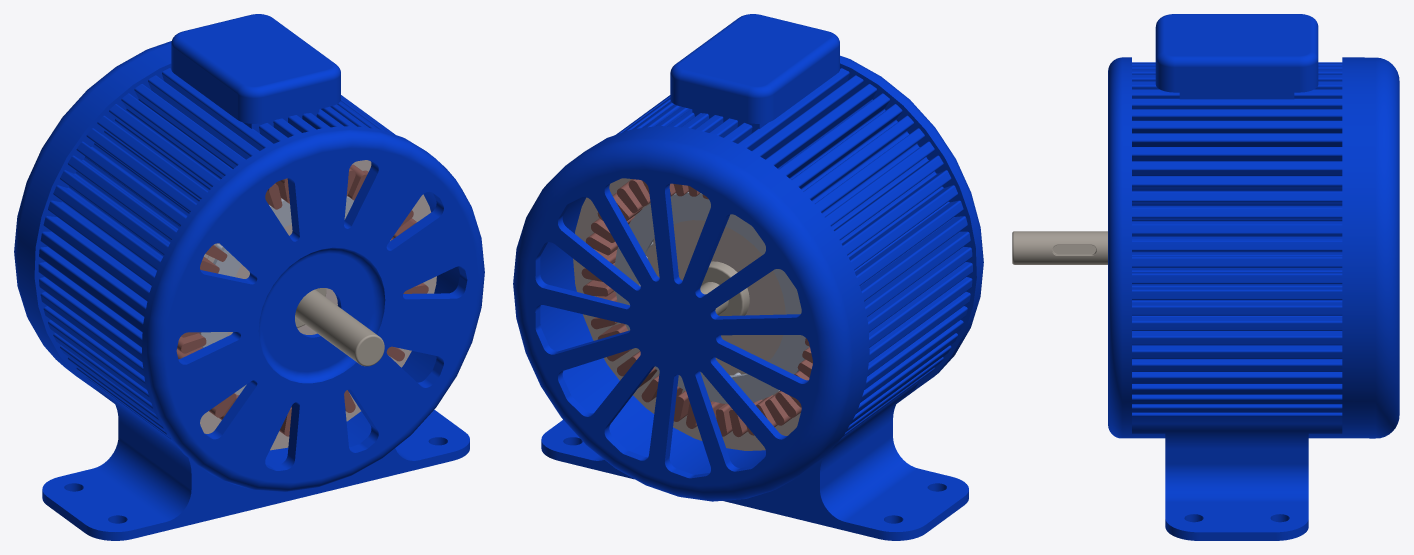
Rendered from Induction Motor 30kW.dae.
The picture shows the model from 3 angles, left to right: view 1: azimuth 30°, elevation 25°; view 2: azimuth 150°, elevation 25°; view 3: azimuth 270°, elevation 25°; orthographic projection.
Visible parts, largest first — view 1: _ncl1_91, _ncl1_5, InductionFBXASC032MotorFBXASC03230kWFBXASC032Stator, _ncl1_38; view 2: _ncl1_91, _ncl1_40, _ncl1_3, InductionFBXASC032MotorFBXASC03230kWFBXASC032Stator, _ncl1_5; view 3: _ncl1_91, _ncl1_5.
Part boxes in pixels (<box>): _ncl1_91: <box>14,14,484,540</box>; _ncl1_5: <box>295,288,384,366</box>; InductionFBXASC032MotorFBXASC03230kWFBXASC032Stator: <box>200,160,436,450</box>; _ncl1_38: <box>199,196,390,394</box>; _ncl1_91: <box>513,14,983,540</box>; _ncl1_40: <box>614,192,809,403</box>; _ncl1_3: <box>646,203,785,375</box>; InductionFBXASC032MotorFBXASC03230kWFBXASC032Stator: <box>573,178,800,450</box>; _ncl1_5: <box>700,261,749,315</box>; _ncl1_91: <box>1108,14,1399,540</box>; _ncl1_5: <box>1012,231,1107,264</box>.
Size of the model in its own units: 0.45 by 0.4786 by 0.405.
